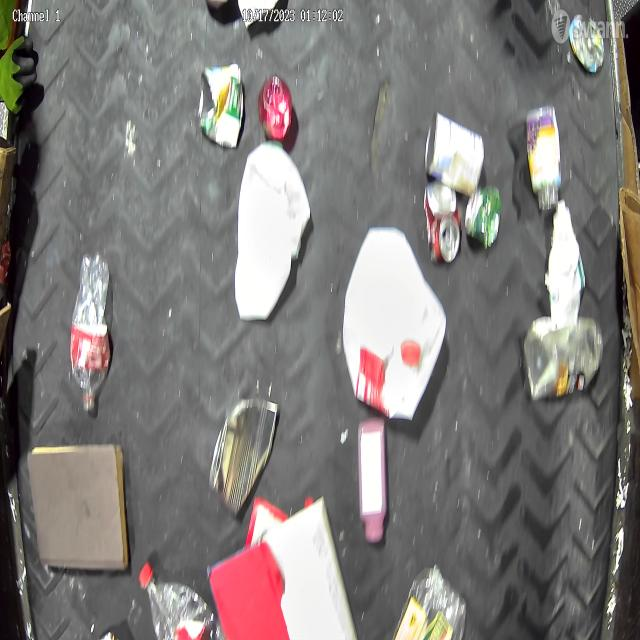can: (211, 396, 280, 518), (390, 562, 470, 640), (424, 110, 484, 192), (198, 64, 245, 152), (422, 180, 461, 266), (465, 184, 504, 252), (261, 74, 295, 142)
milk_jug: (341, 225, 447, 423), (236, 141, 308, 322)
plastic_bottle: (70, 250, 111, 414), (140, 565, 228, 640)
